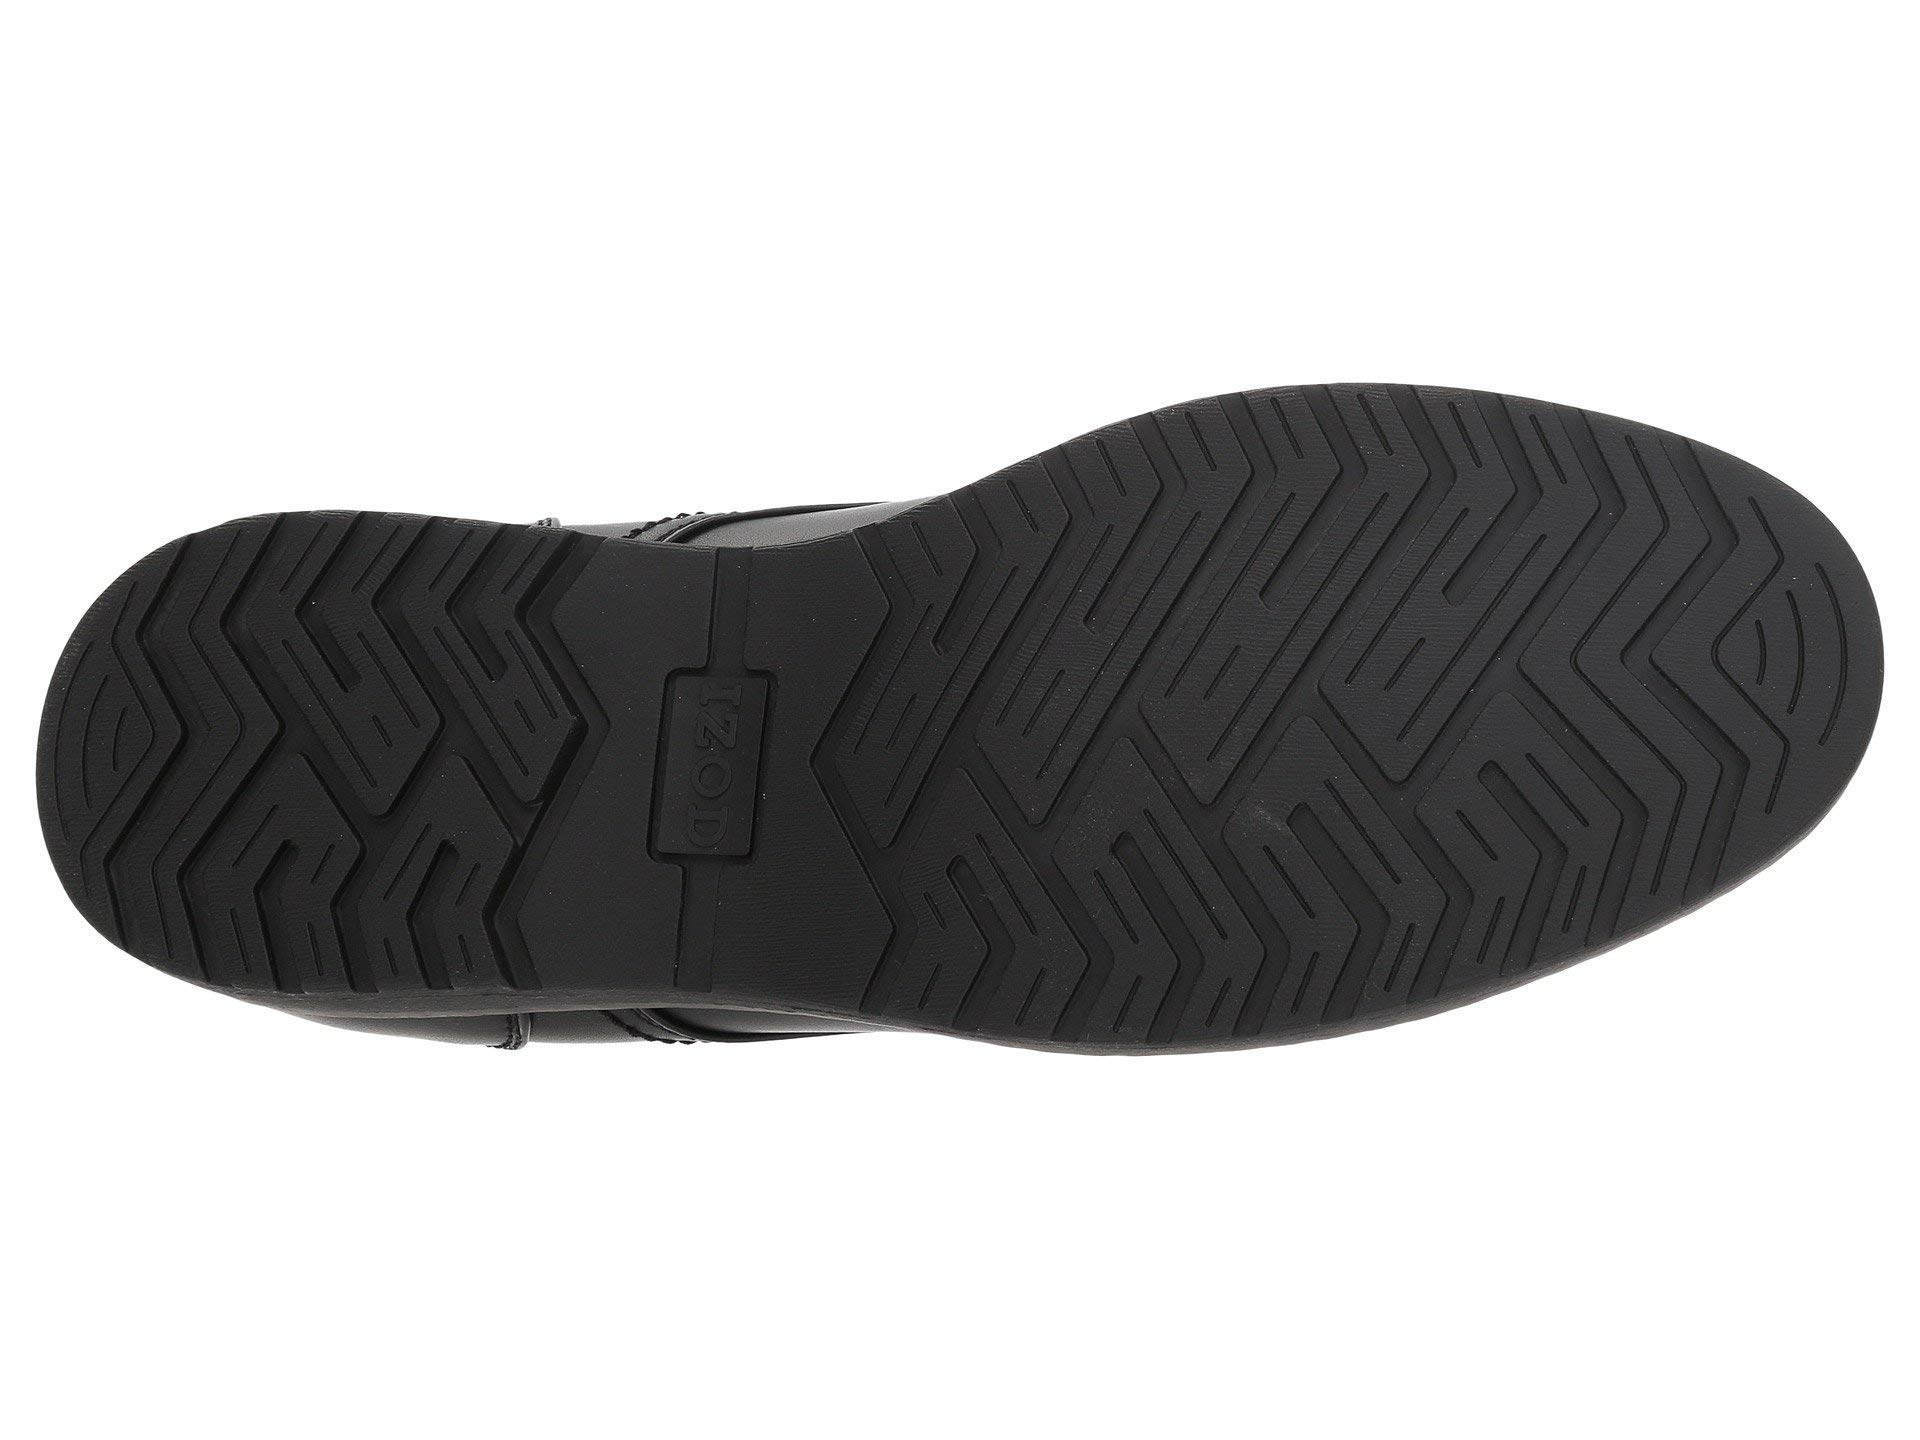chevron: (1017, 493, 1819, 871), (76, 640, 582, 918)
circle: (638, 625, 794, 886)
line: (1017, 493, 1819, 871), (76, 640, 582, 918), (638, 625, 794, 886)
quad: (76, 640, 582, 918), (638, 625, 794, 886)
triangle: (76, 640, 582, 918)
